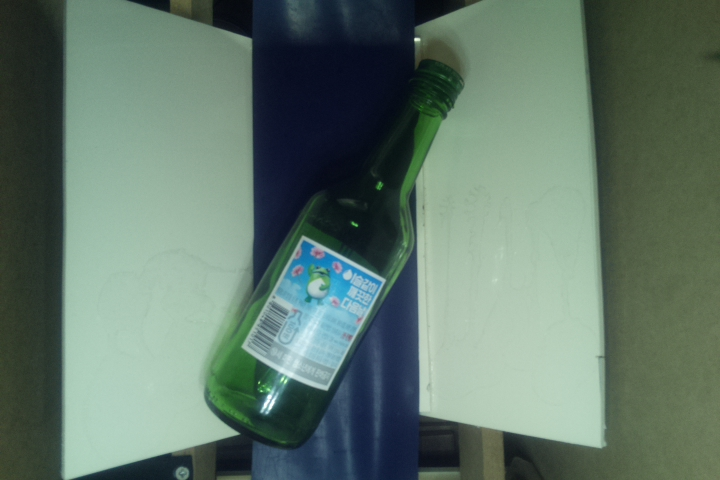soju: (200, 57, 468, 452)
